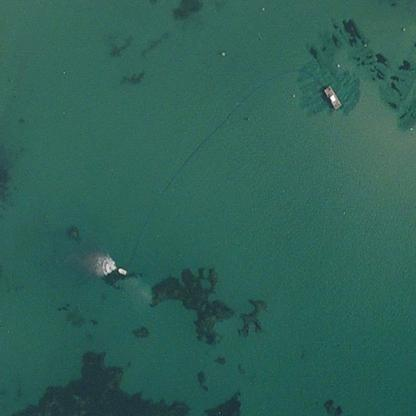ship: (314, 79, 344, 113), (112, 262, 134, 281)
